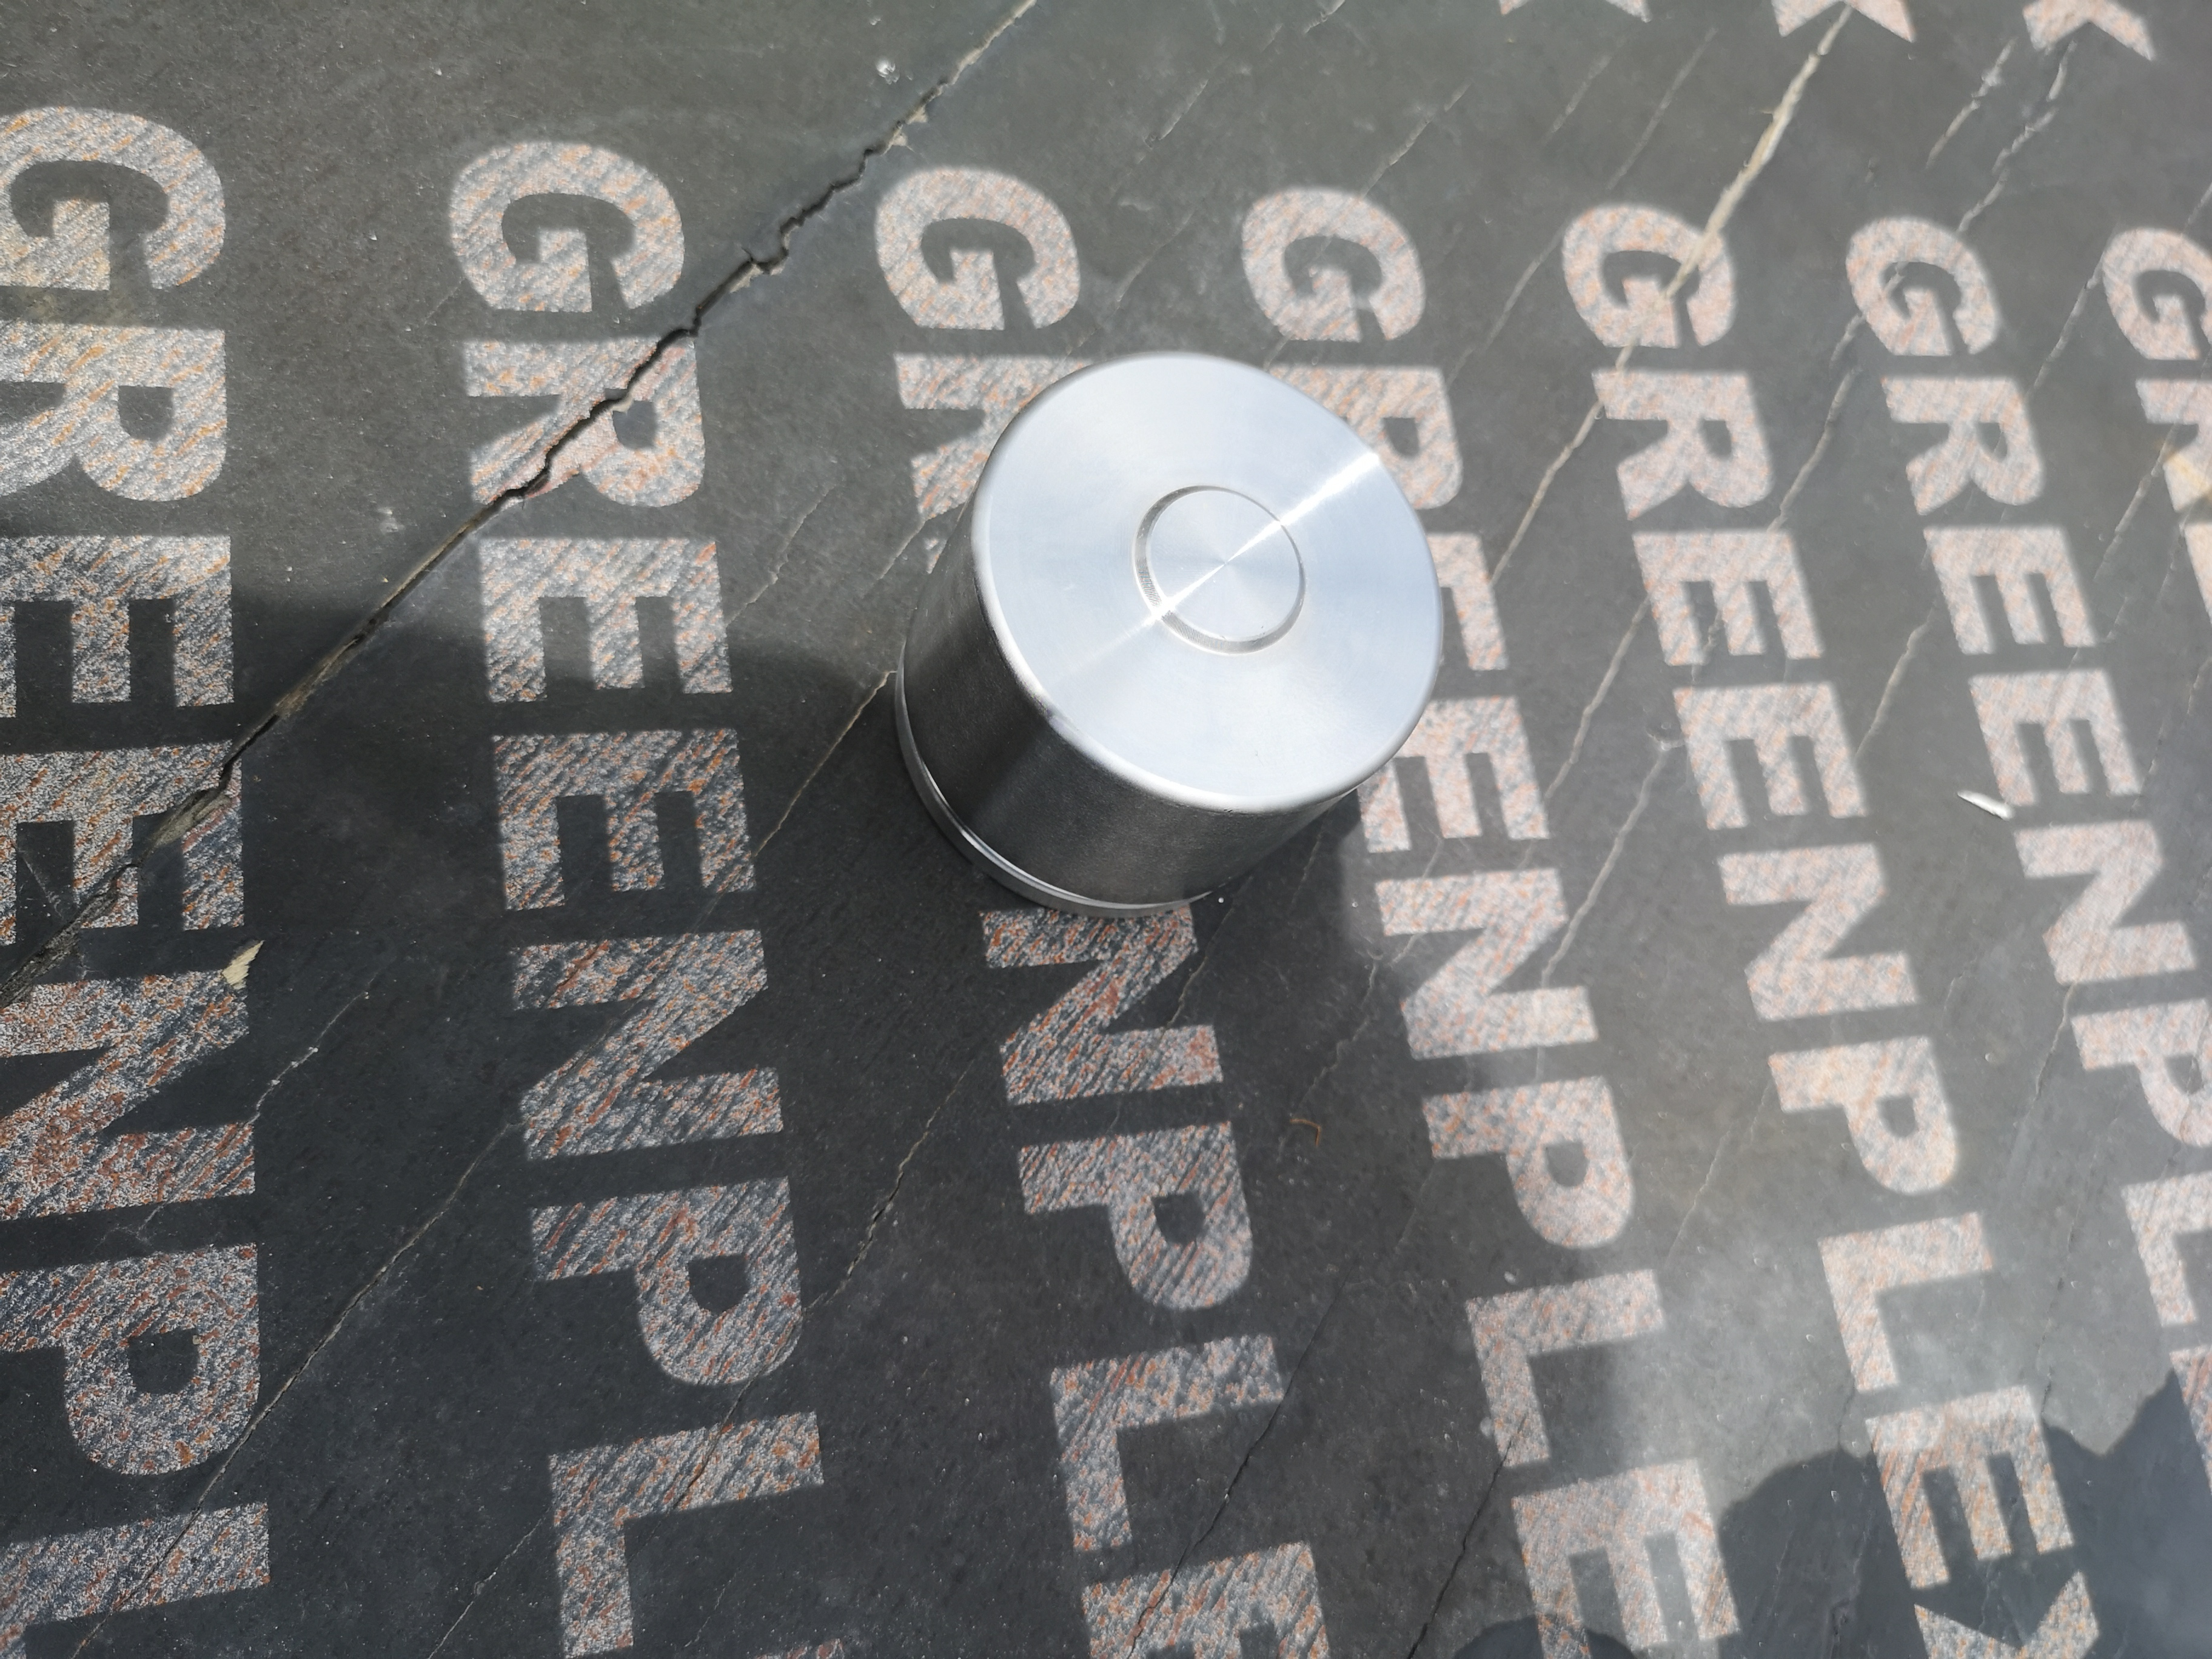ลูกสูบดิสเบรค: (878, 312, 1489, 924)
